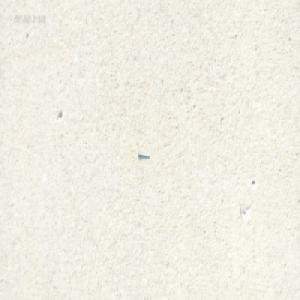Nail: (136, 150, 149, 158)
